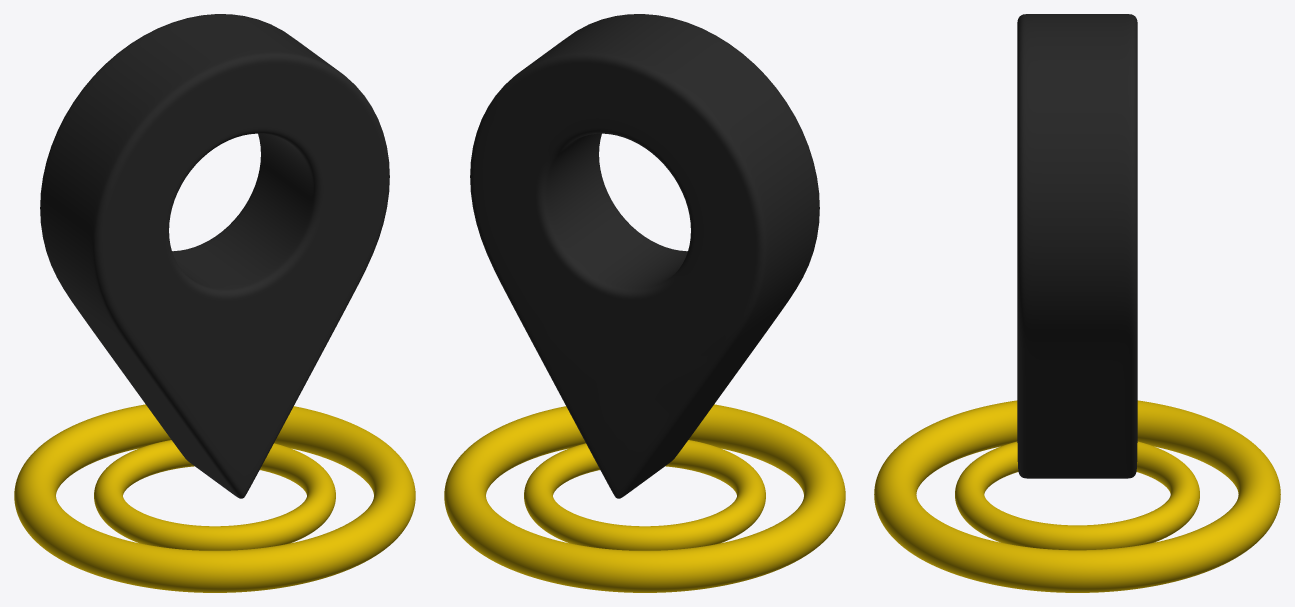
Rendered from pin.glb.
The picture shows the model from 3 angles, left to right: view 1: azimuth 30°, elevation 25°; view 2: azimuth 150°, elevation 25°; view 3: azimuth 270°, elevation 25°; orthographic projection.
Parts seen in each view (by area): view 1: Map-Pin; view 2: Map-Pin; view 3: Map-Pin.
Boxes of the visible parts, bbox=[...] form: Map-Pin: bbox=[14, 14, 415, 592]; Map-Pin: bbox=[444, 14, 845, 592]; Map-Pin: bbox=[874, 14, 1280, 592].
Bounding box in the file's own units: 1.46 × 1.91 × 1.46.
